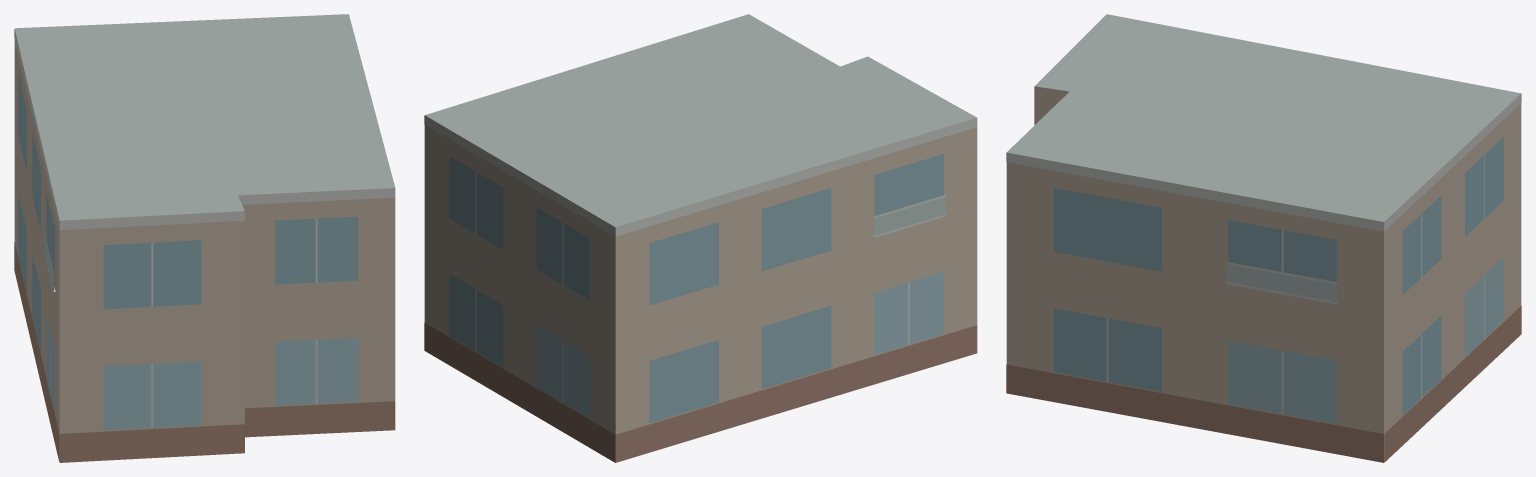
File: survey-upis-32819793.glb
3 views of the same model, side by side, from view 1: azimuth 30°, elevation 25°; view 2: azimuth 150°, elevation 25°; view 3: azimuth 270°, elevation 25° (orthographic). The views are drawn at different scales.
Visible parts, largest first — view 1: survey-upis-32819793.tmp; view 2: survey-upis-32819793.tmp; view 3: survey-upis-32819793.tmp.
Part boxes in pixels (left/top/right/bottom): survey-upis-32819793.tmp: left=14, top=14, right=395, bottom=462; survey-upis-32819793.tmp: left=424, top=14, right=977, bottom=462; survey-upis-32819793.tmp: left=1006, top=14, right=1521, bottom=462.
Size of the model in its own units: 11.31 by 6.1 by 11.83.
